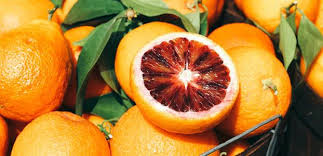orange: (1, 17, 71, 118), (221, 44, 294, 132), (109, 102, 223, 156), (10, 109, 111, 156)
